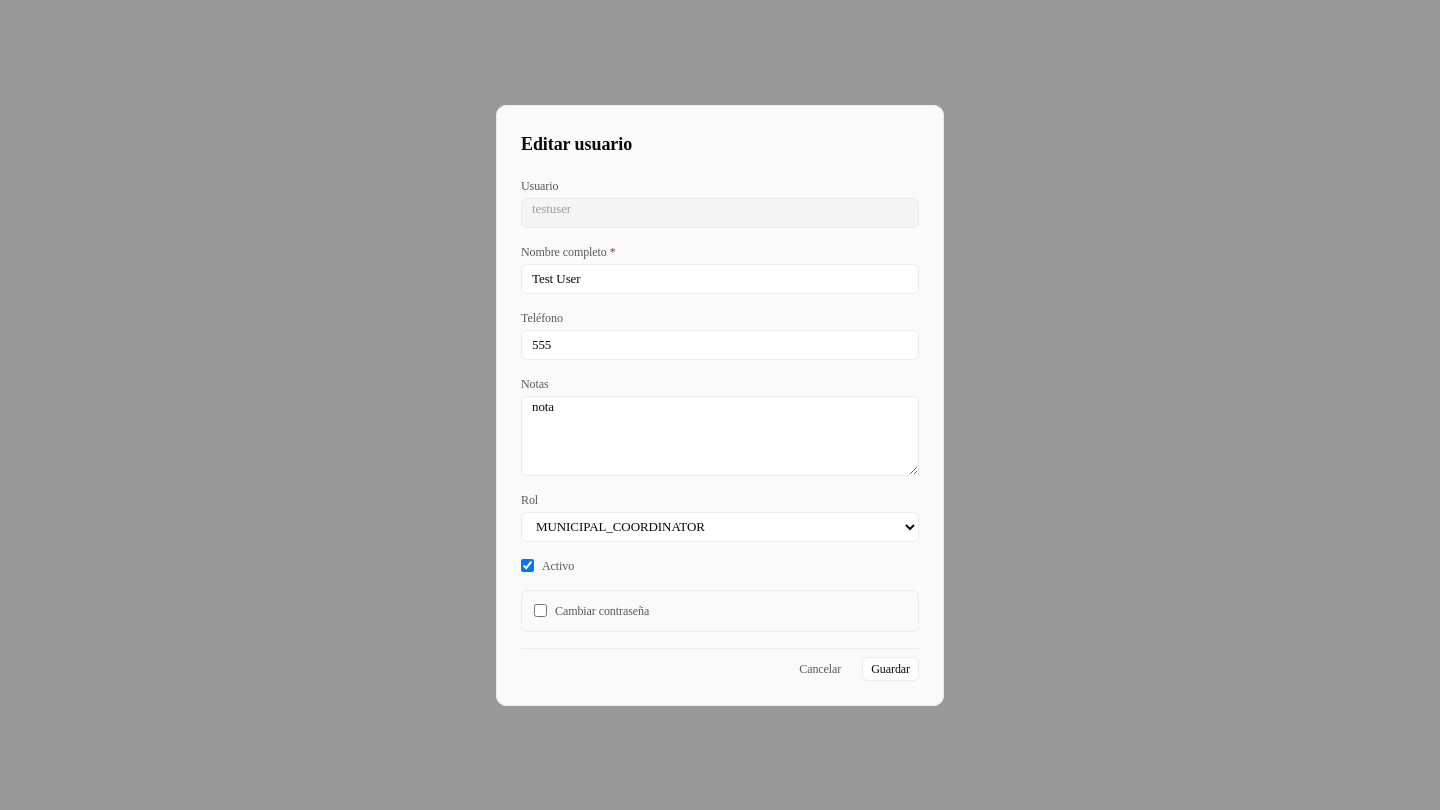
Scenario: EditUserModal › reveals password input when checkbox checked
Click the checkbox labelled "Cambiar contraseña". click: point(540, 610)
box: [534,604,547,617]
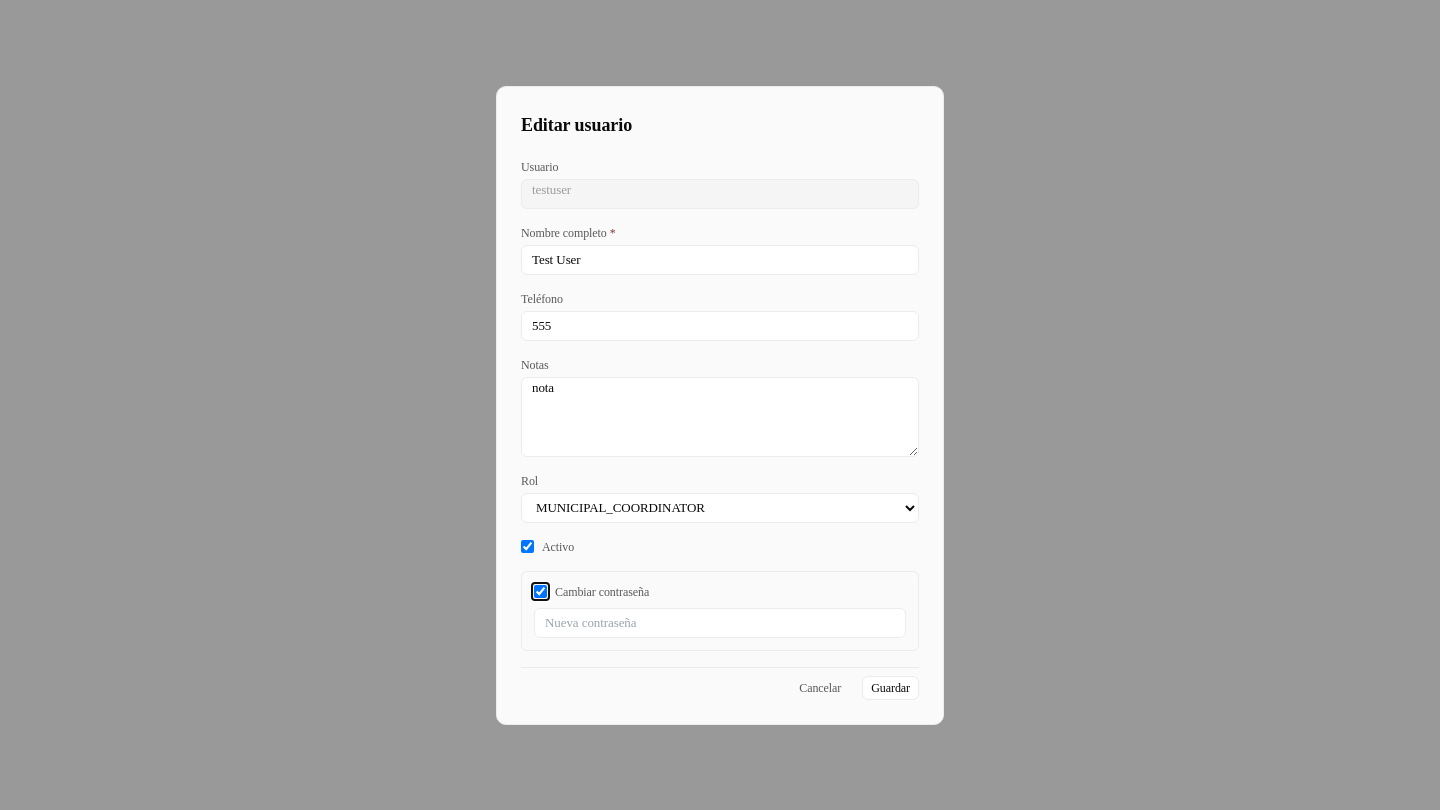
Result: the password field with placeholder "Nueva contraseña" is shown at [534,608,906,638]
